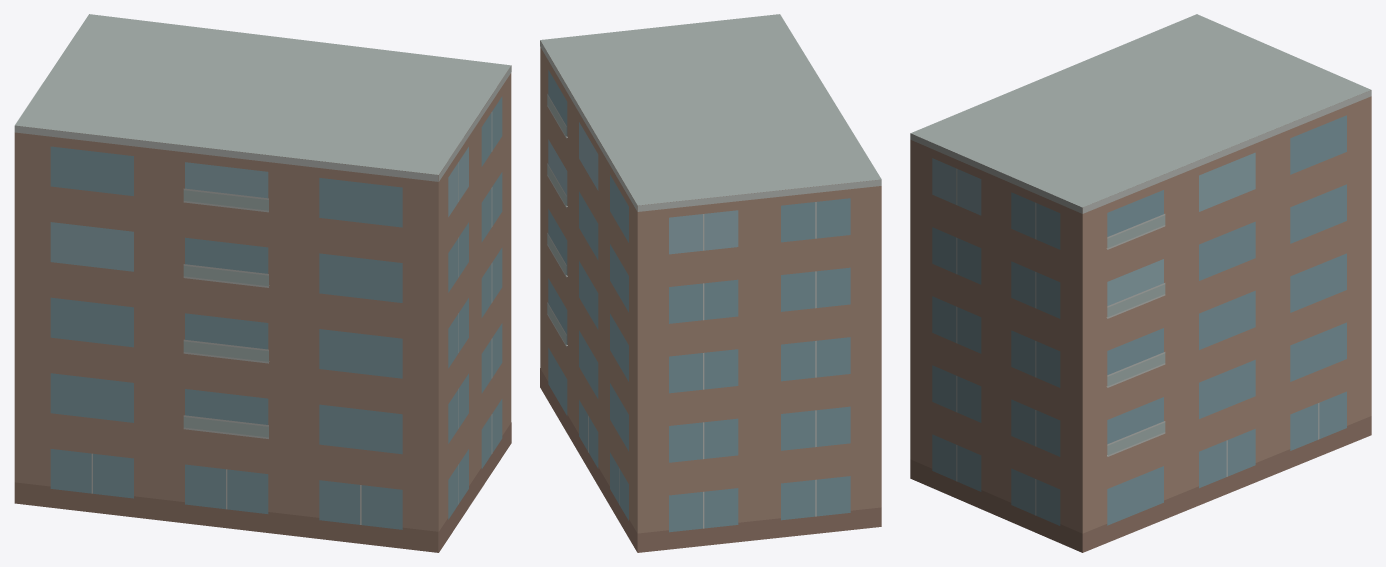
The model's file is survey-upis-32849469.glb.
3 views of the same model, side by side, from view 1: azimuth 30°, elevation 25°; view 2: azimuth 150°, elevation 25°; view 3: azimuth 270°, elevation 25° (orthographic). The views are drawn at different scales.
Parts seen in each view (by area): view 1: survey-upis-32849469.tmp; view 2: survey-upis-32849469.tmp; view 3: survey-upis-32849469.tmp.
Boxes of the visible parts, <box> form: survey-upis-32849469.tmp: <box>14,14,511,552</box>; survey-upis-32849469.tmp: <box>540,14,881,552</box>; survey-upis-32849469.tmp: <box>910,14,1371,552</box>.
Bounding box in the file's own units: 15.88 × 13.2 × 15.98.
